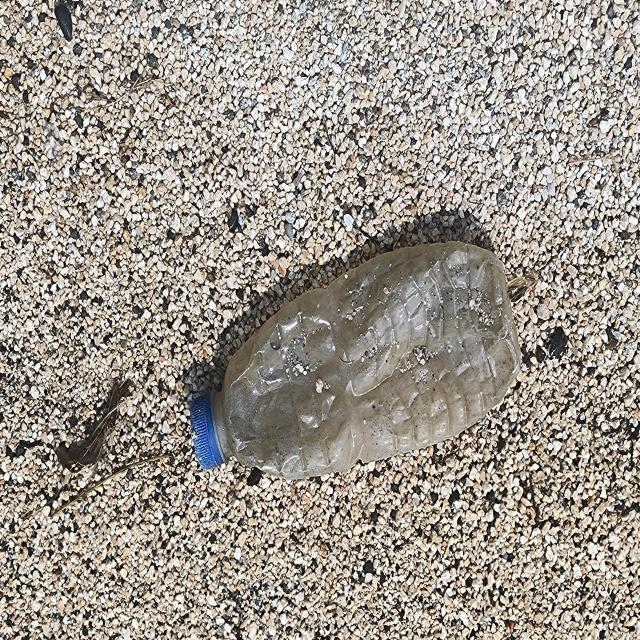plastic_waste: (191, 244, 523, 479)
